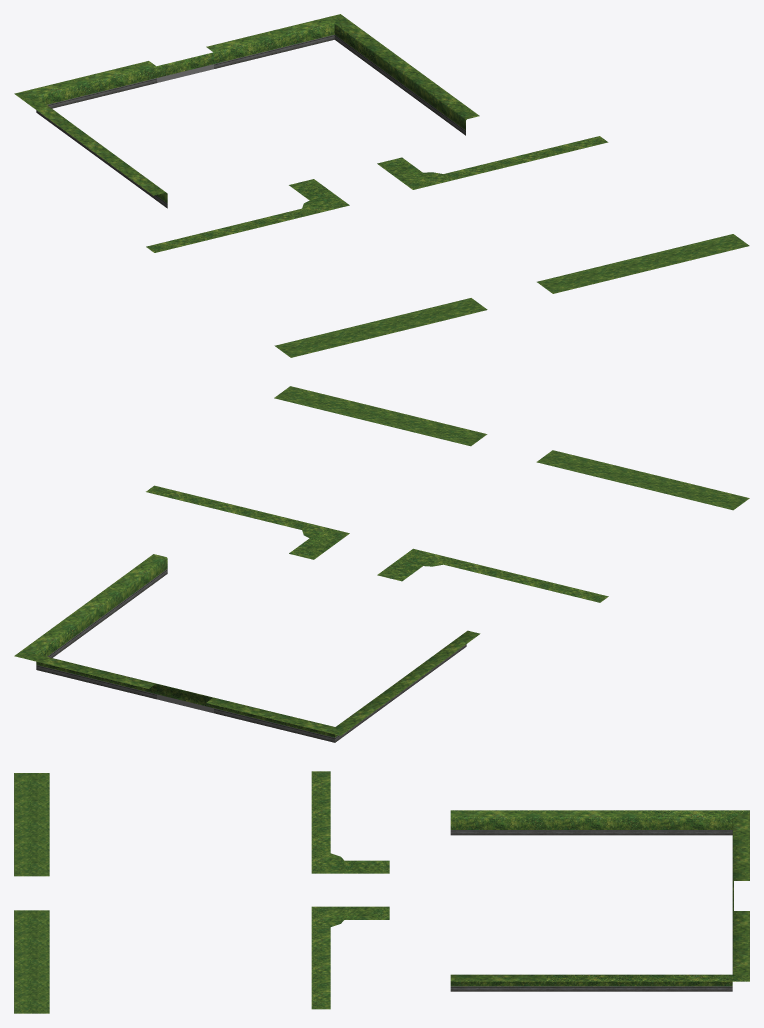
The model's file is SC_guowangchengbao_02.FBX.
3 renders of one model, top to bottom at view 1: azimuth 30°, elevation 25°; view 2: azimuth 150°, elevation 25°; view 3: azimuth 270°, elevation 25°, orthographic. The views are drawn at different scales.
Visible parts, largest first — view 1: SC_guowangchengbao_02; view 2: SC_guowangchengbao_02; view 3: SC_guowangchengbao_02.
Part boxes in pixels (box(x1,y1,x2,y2)): SC_guowangchengbao_02: box(14, 14, 749, 357); SC_guowangchengbao_02: box(14, 386, 749, 742); SC_guowangchengbao_02: box(14, 771, 749, 1013).
Bounding box in the file's own units: 10464 × 474 × 13532.
